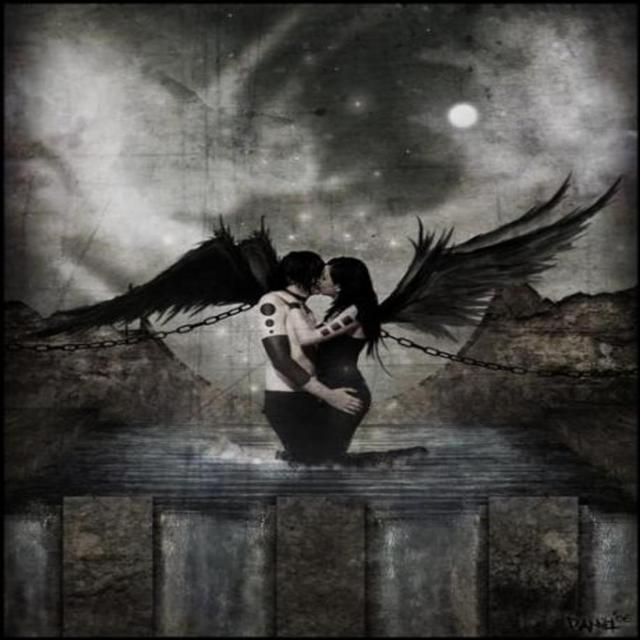nomask: (316, 265, 334, 293)
